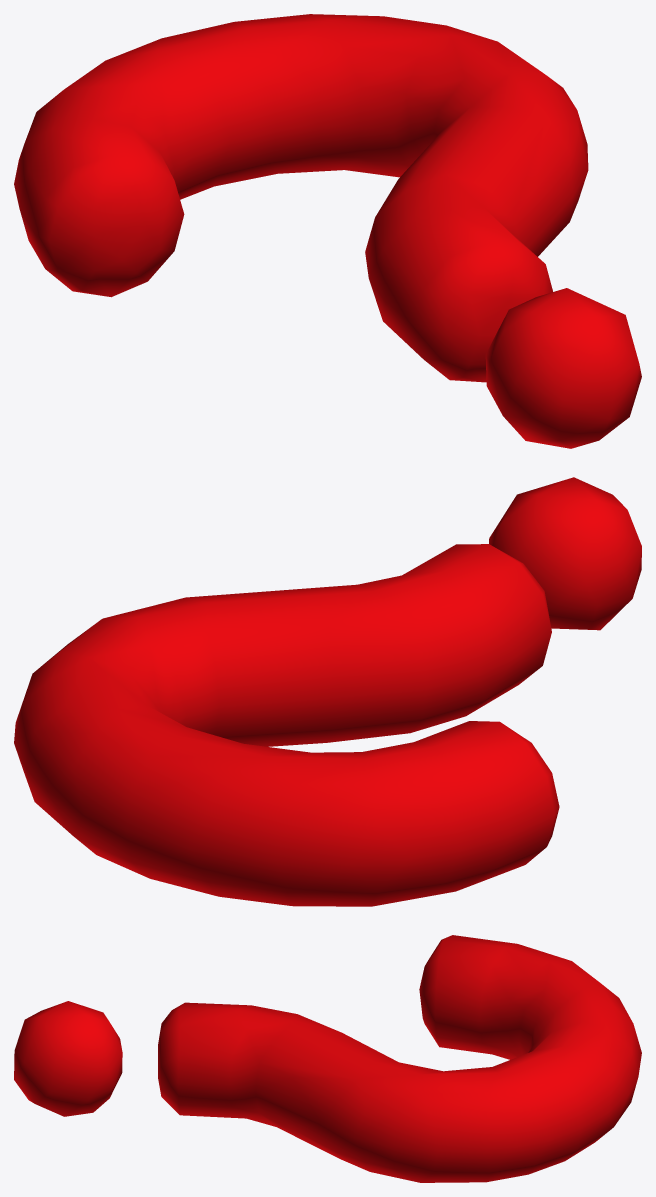
File: question.gltf
3 renders of one model, top to bottom at view 1: azimuth 30°, elevation 25°; view 2: azimuth 150°, elevation 25°; view 3: azimuth 270°, elevation 25°, orthographic. The views are drawn at different scales.
Parts seen in each view (by area): view 1: BezierCurve, Cube; view 2: BezierCurve, Cube; view 3: BezierCurve, Cube.
Boxes of the visible parts, <box> form: BezierCurve: <box>14,14,588,382</box>; Cube: <box>485,288,641,448</box>; BezierCurve: <box>14,544,559,906</box>; Cube: <box>489,477,641,630</box>; BezierCurve: <box>158,935,641,1182</box>; Cube: <box>14,1001,122,1116</box>.
Bounding box in the file's own units: 2.14 × 0.5604 × 3.1.
